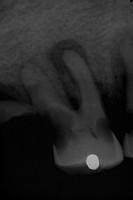Dental Caries: (47, 38, 89, 111), (110, 23, 133, 93), (0, 81, 31, 103)
